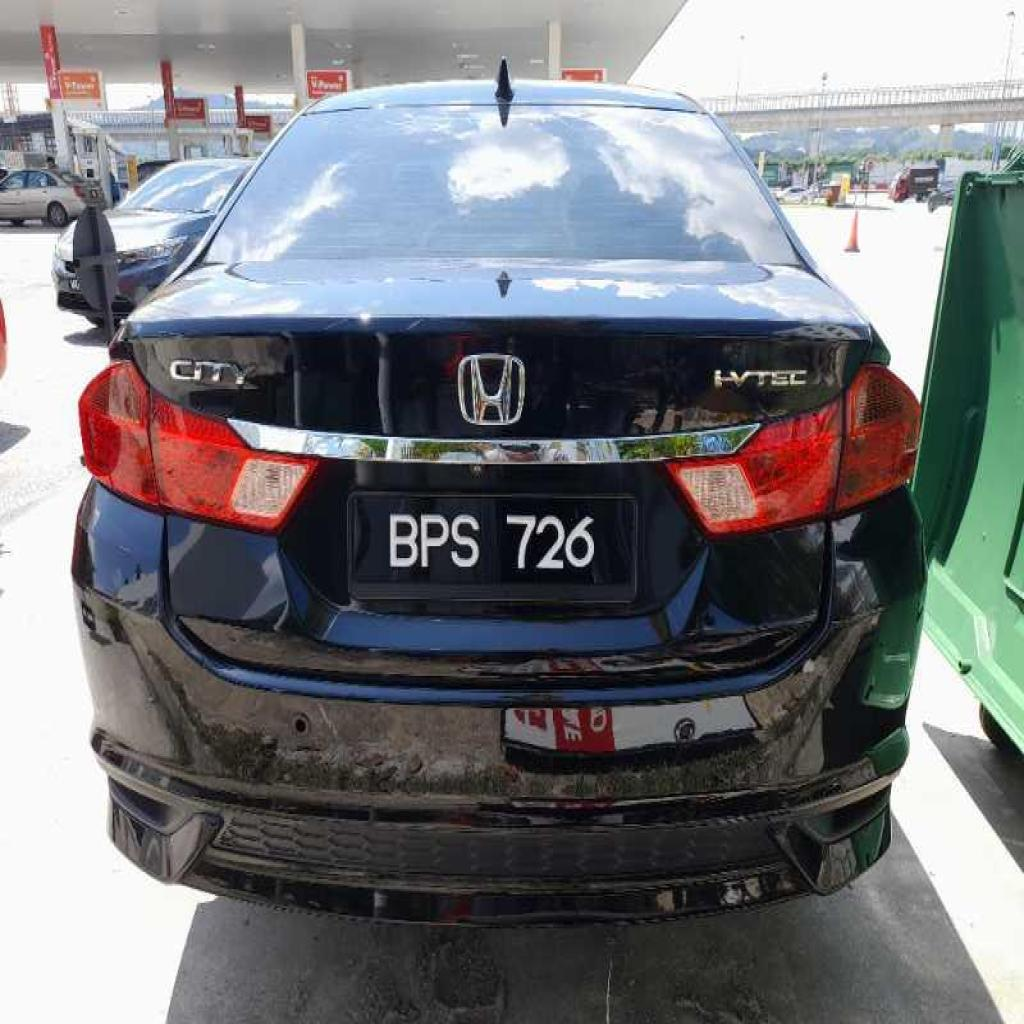car: (72, 73, 923, 918)
car plate: (348, 493, 635, 601)
